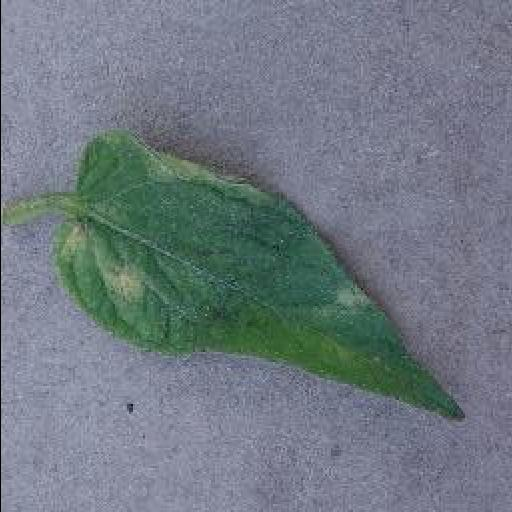disease_tomato: (58, 140, 466, 422)
